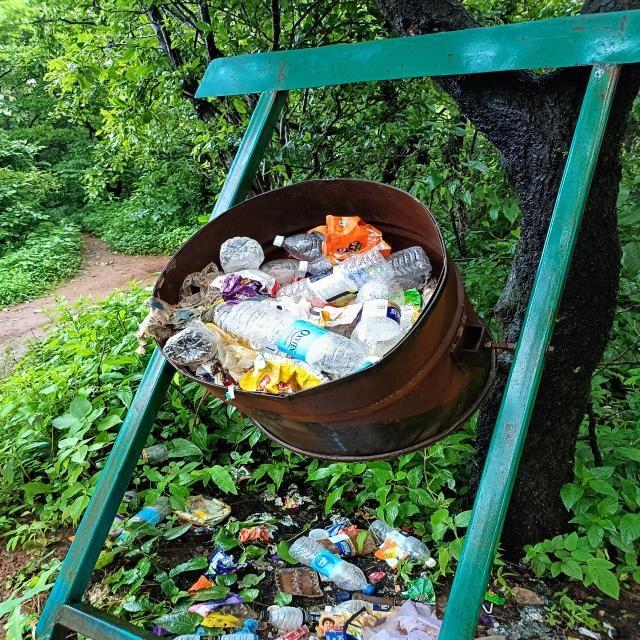garbage: (133, 487, 538, 640), (140, 198, 442, 403)
